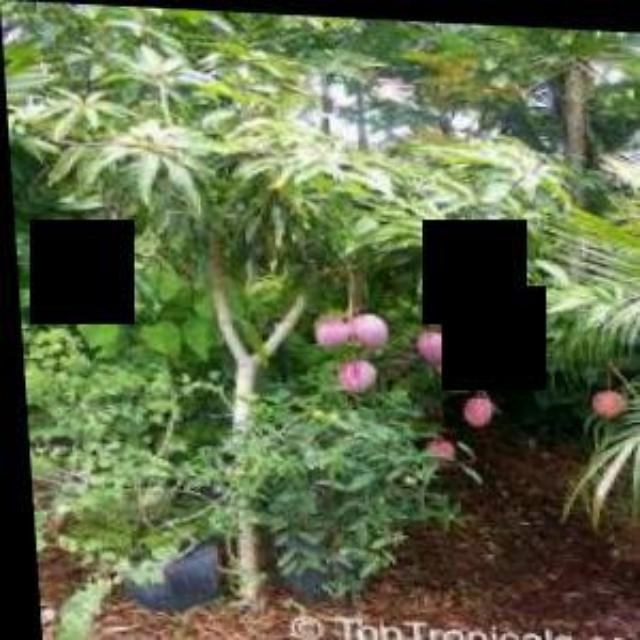tree: (28, 28, 630, 614)
